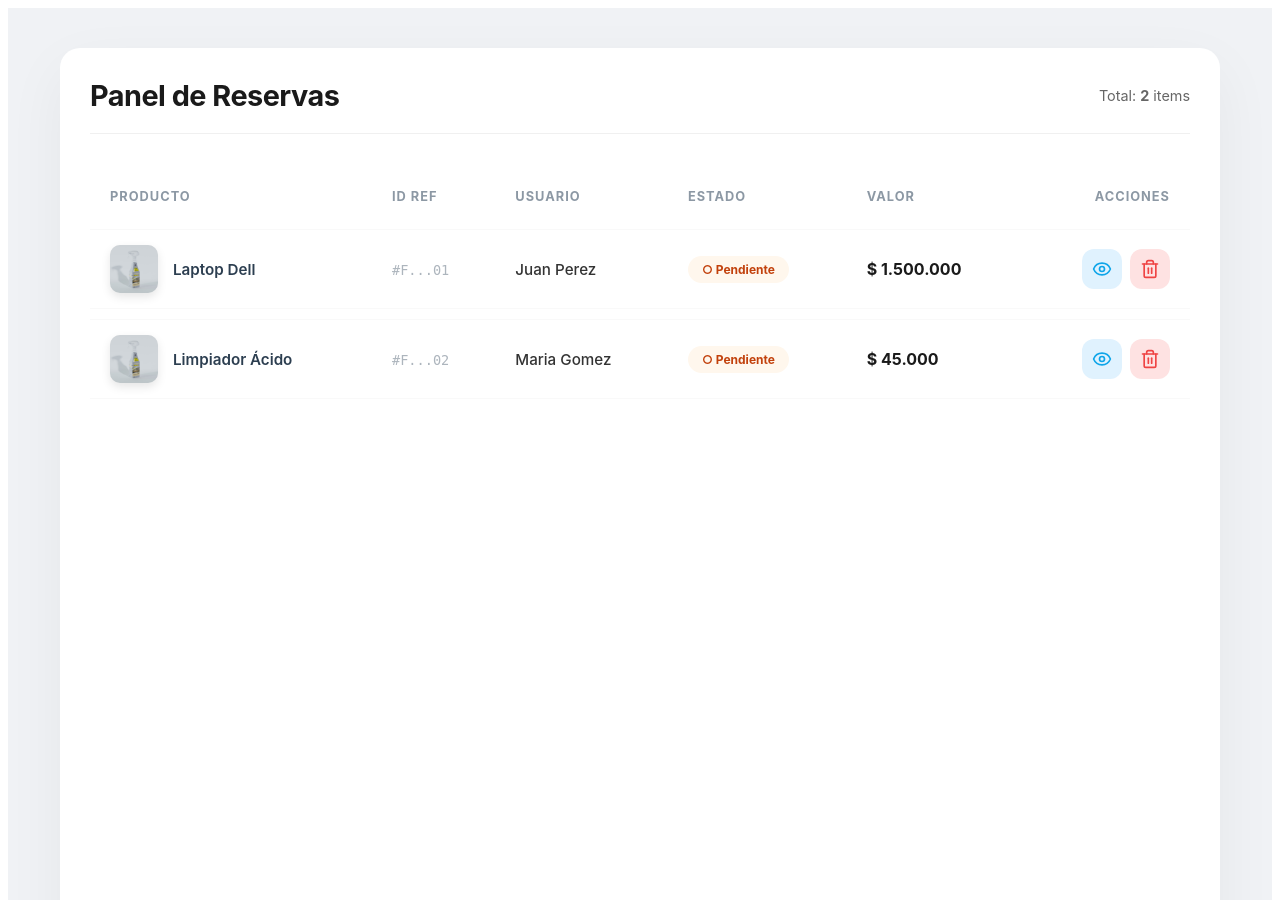
Test: ReservationList Component (SOLID Tests) › Debe abrir el modal de detalle al hacer click en Ver
Expected: the text "Laptop Dell" is shown, [173,260,256,278]
Click the button titled "Ver detalle" in the row of "Laptop Dell": click(1102, 269) [1082,249,1122,289]
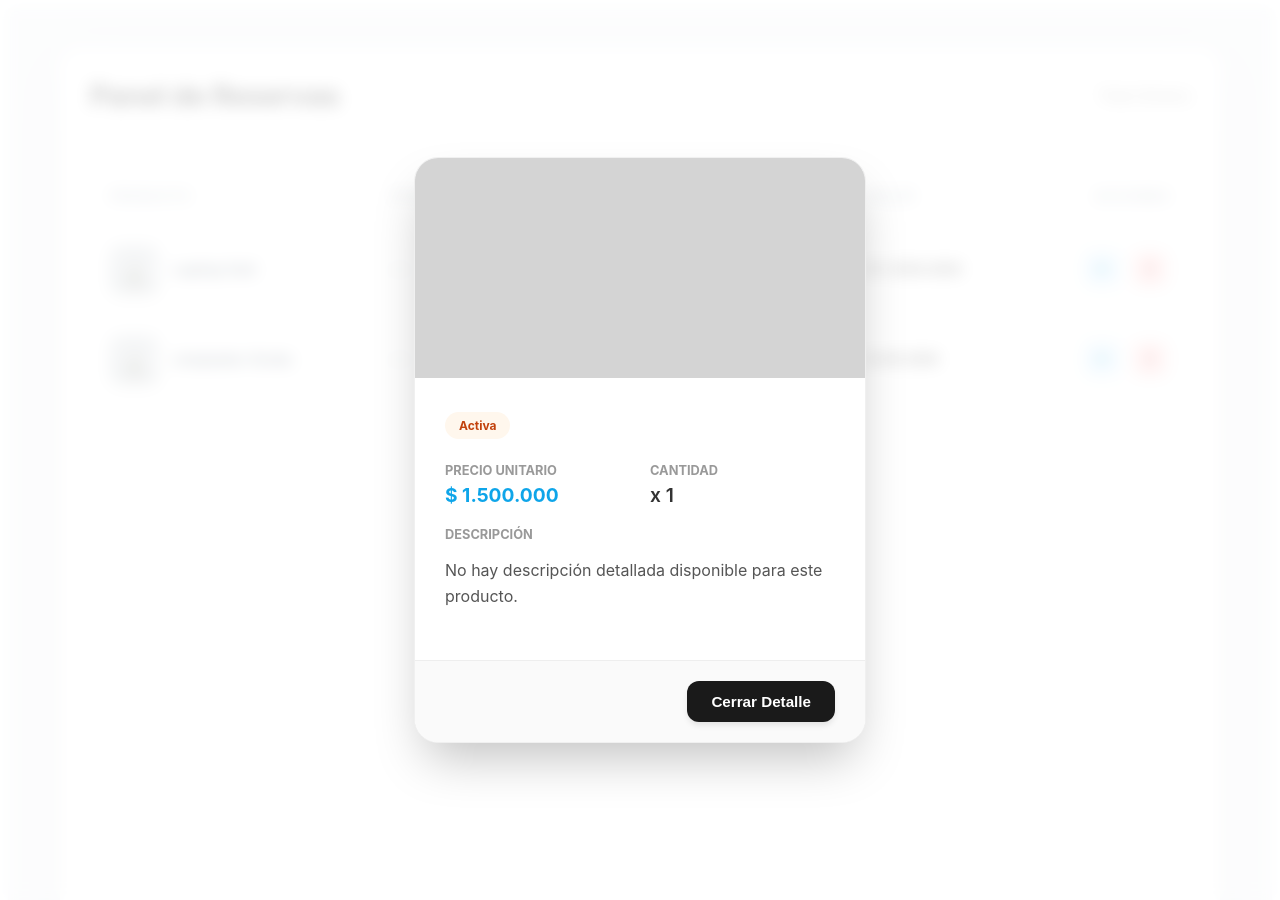
Expected: the text "Precio Unitario" is shown, [445,463,557,478]
Expected: the button "Cerrar Detalle" is shown, [687,681,835,722]
